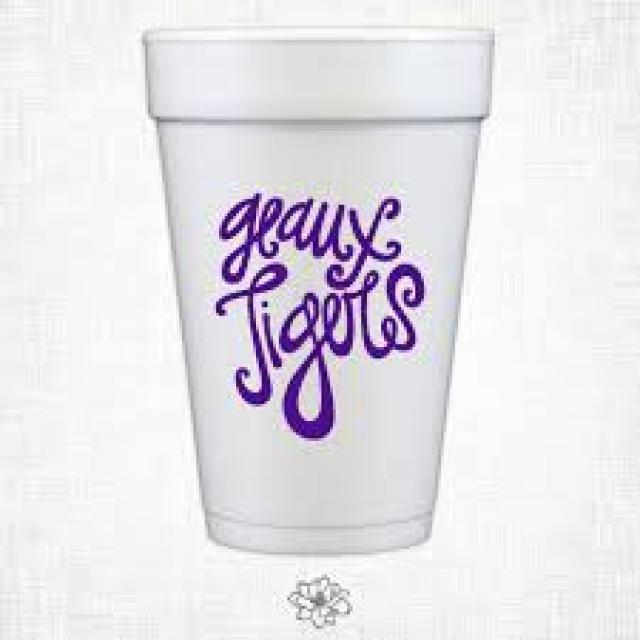cups: (141, 23, 496, 555)
